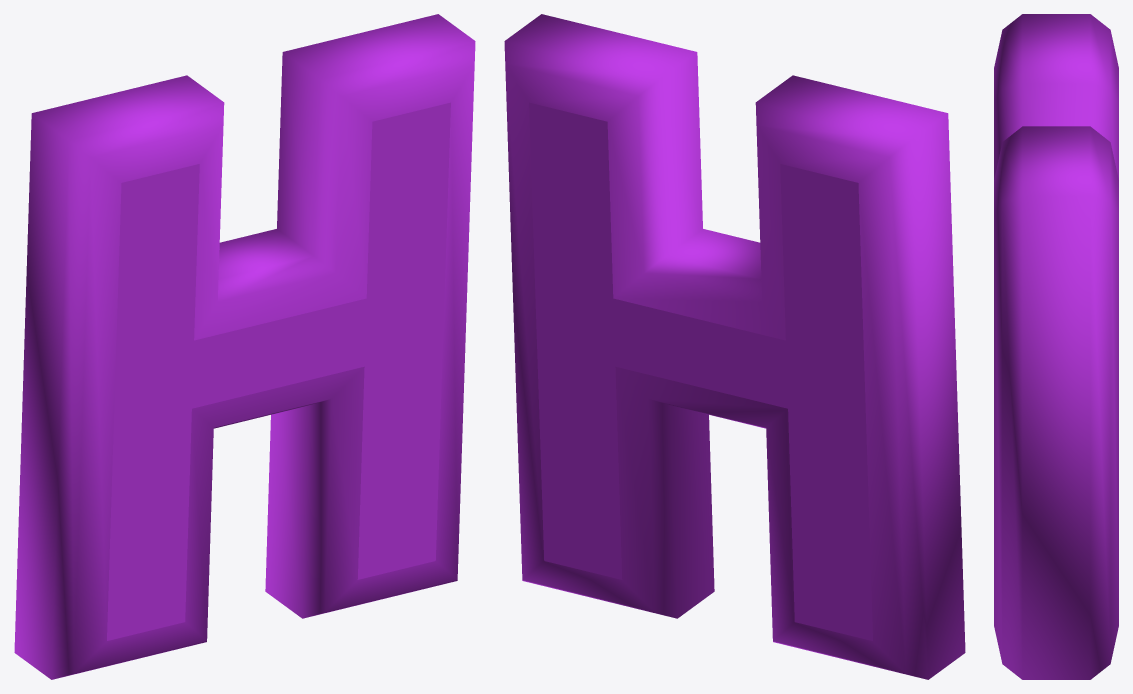
3 views of the same model, side by side, from view 1: azimuth 30°, elevation 25°; view 2: azimuth 150°, elevation 25°; view 3: azimuth 270°, elevation 25° (orthographic). The views are drawn at different scales.
Parts seen in each view (by area): view 1: h; view 2: h; view 3: h.
Boxes of the visible parts, x1=… form: h: x1=14, y1=14, x2=475, y2=679; h: x1=504, y1=14, x2=965, y2=679; h: x1=994, y1=14, x2=1118, y2=679.
Size of the model in its own units: 0.5496 by 0.6632 by 0.1526.
